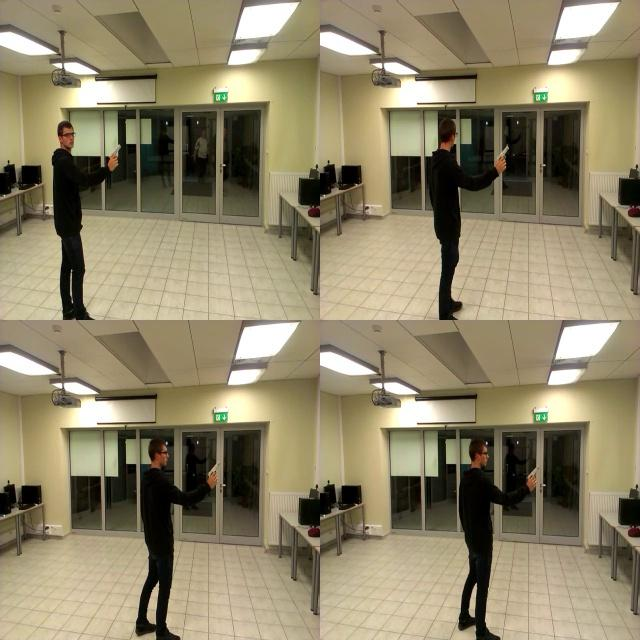gun: (197, 455, 221, 483), (492, 139, 511, 172), (106, 139, 122, 173), (522, 459, 541, 485)
